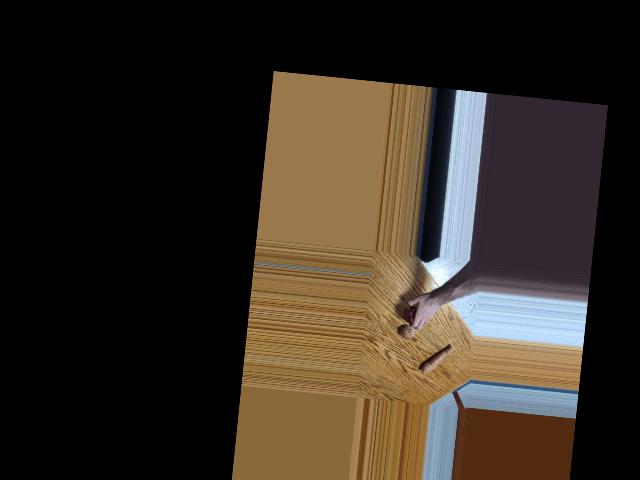onion: (402, 307, 419, 324)
